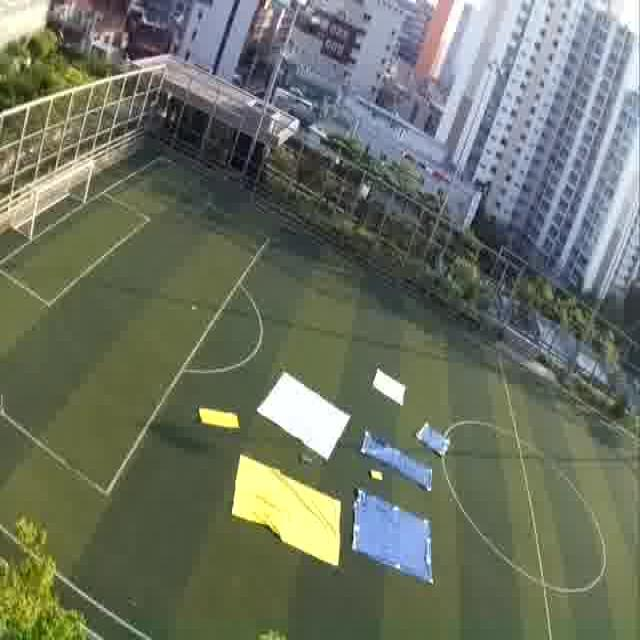danger: (353, 500, 435, 582), (360, 426, 410, 469), (420, 423, 460, 459)
safety: (254, 368, 352, 455), (356, 354, 413, 411)
warning: (232, 479, 342, 565), (204, 394, 242, 434)
